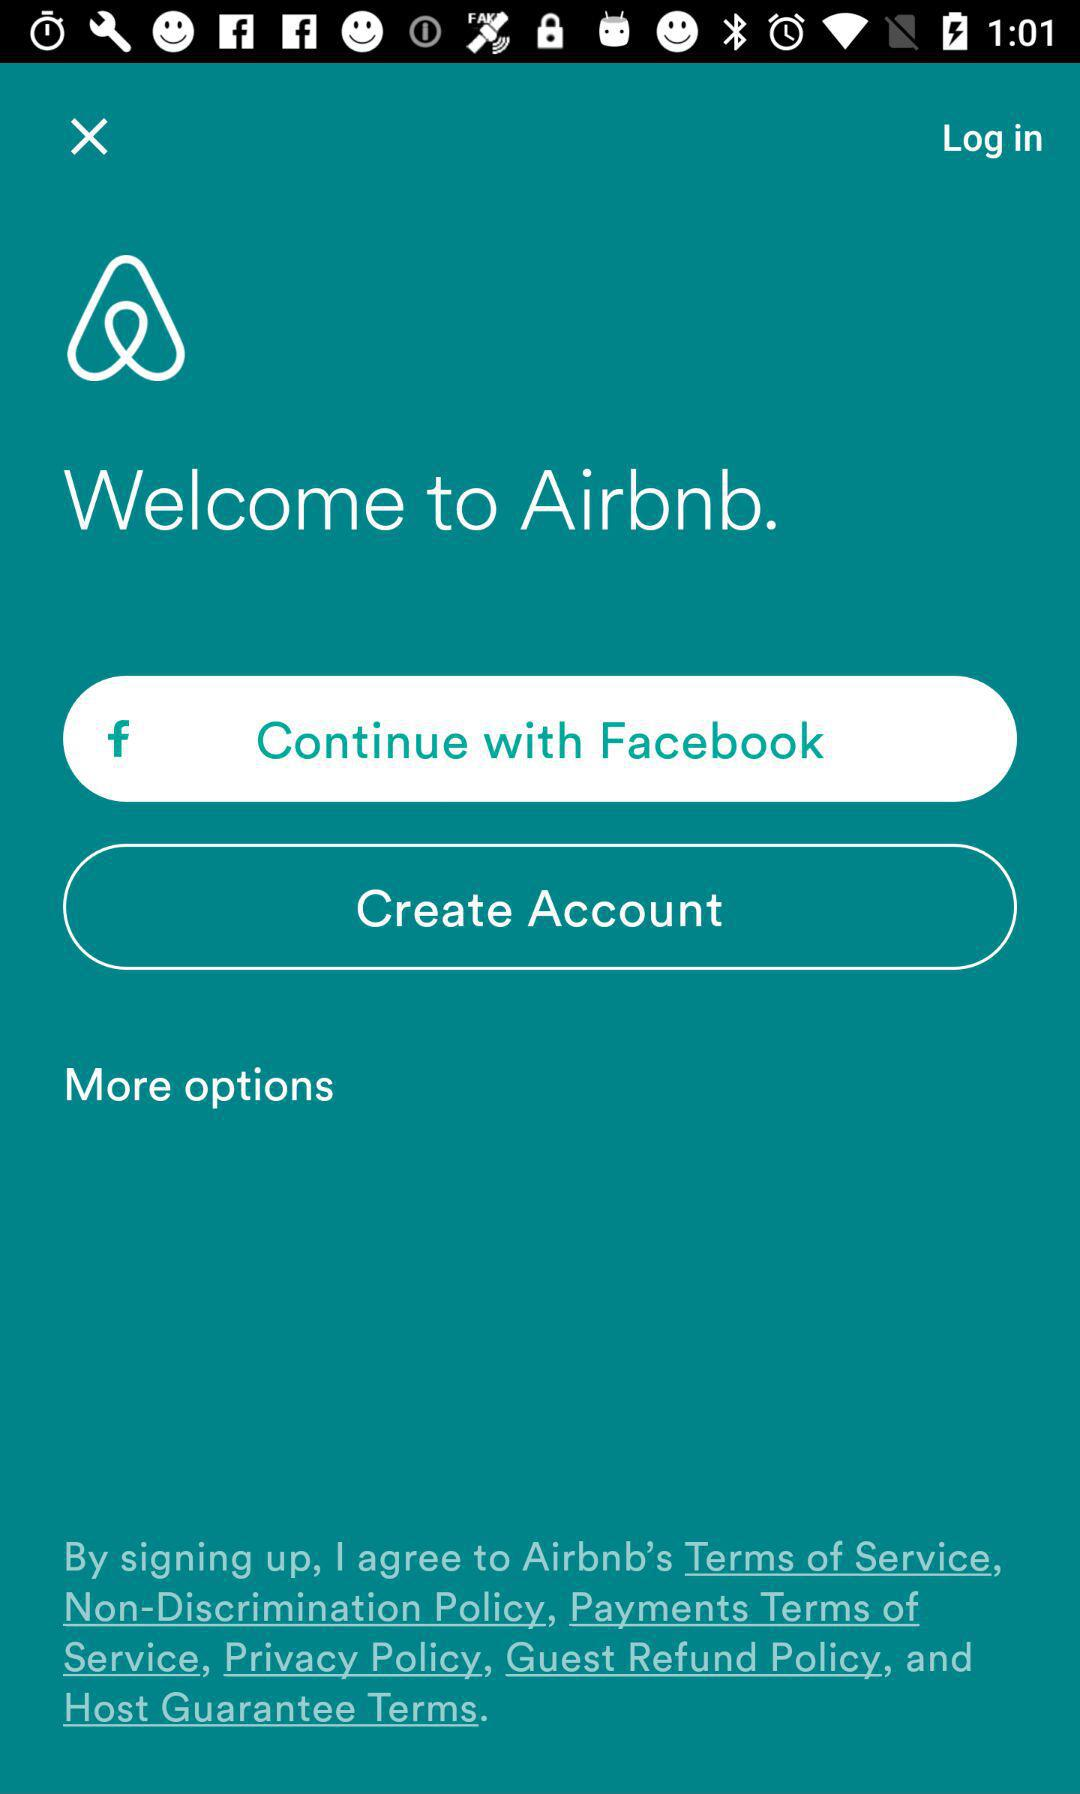Icon: (70, 118, 110, 158)
Image: (67, 255, 187, 383)
Text: (63, 1540, 1002, 1729), (64, 468, 776, 532), (67, 1066, 334, 1111), (943, 124, 1042, 160)
TextButton: (63, 844, 1019, 971), (63, 677, 1019, 803)
UpperTaskBar: (1, 1, 1080, 64)
